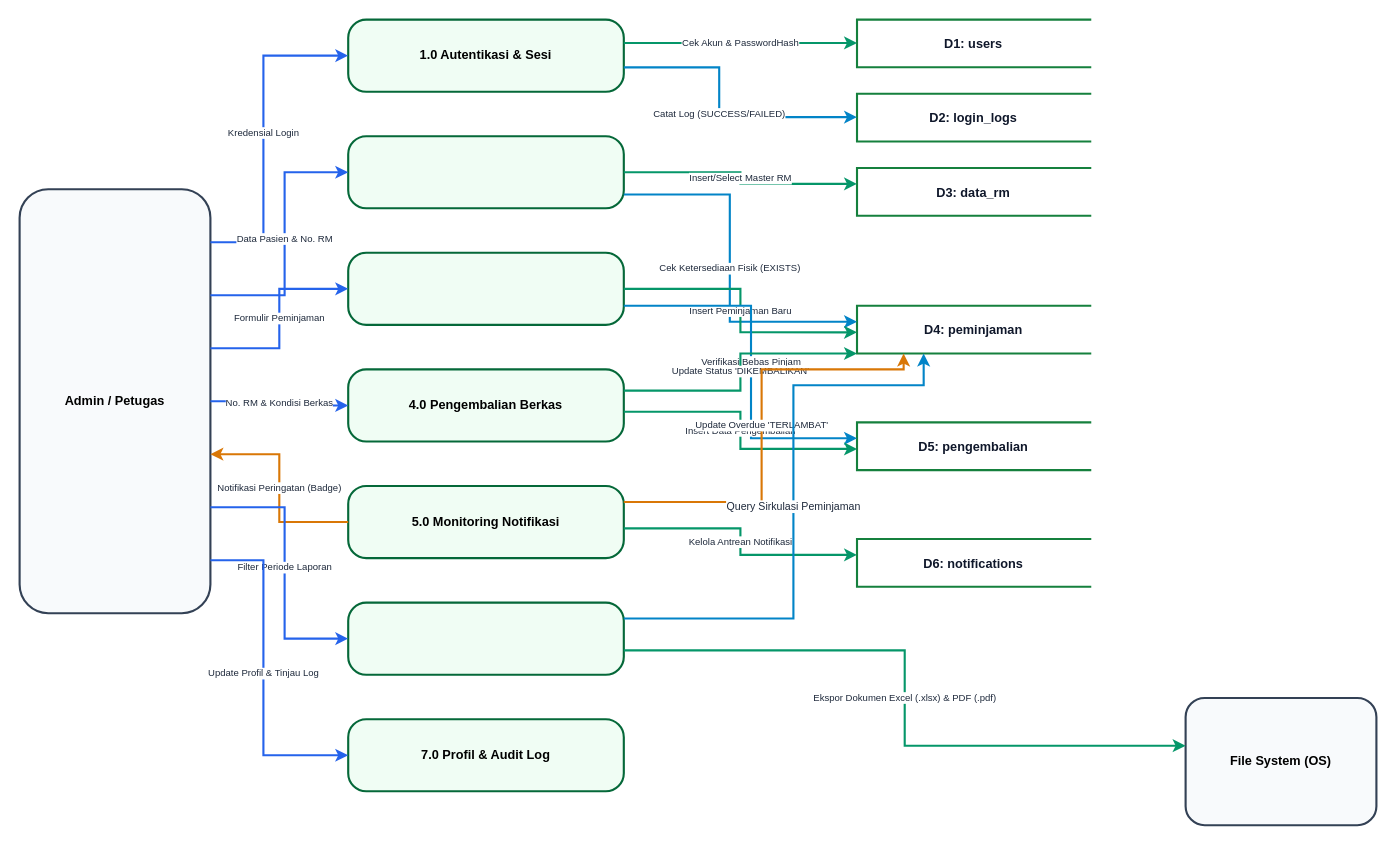
Image size: 1395x844. Some labels were removed from this diagram. Here are the shapes that lost their labels. From the top down, the centre of each, then its label:
point 485,172: 2.0 Manajemen Data RM
point 485,288: 3.0 Peminjaman Berkas
point 485,638: 6.0 Laporan & Ekspor
